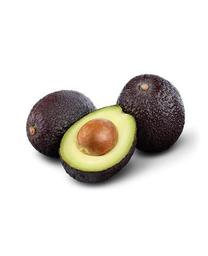avocado: (61, 105, 137, 184), (117, 74, 185, 156), (26, 90, 96, 156)
